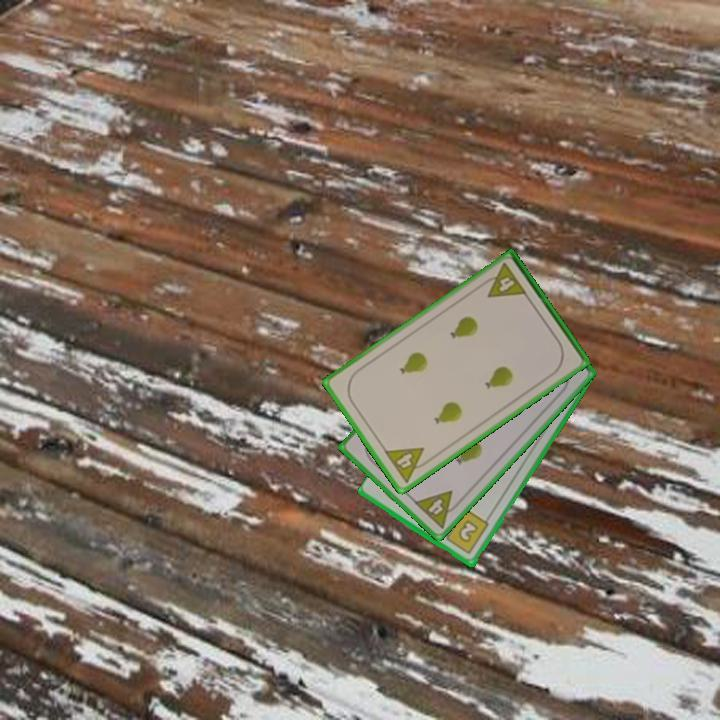2b: (438, 506, 492, 557)
4p: (410, 487, 465, 531), (381, 444, 434, 486), (477, 260, 530, 301)
